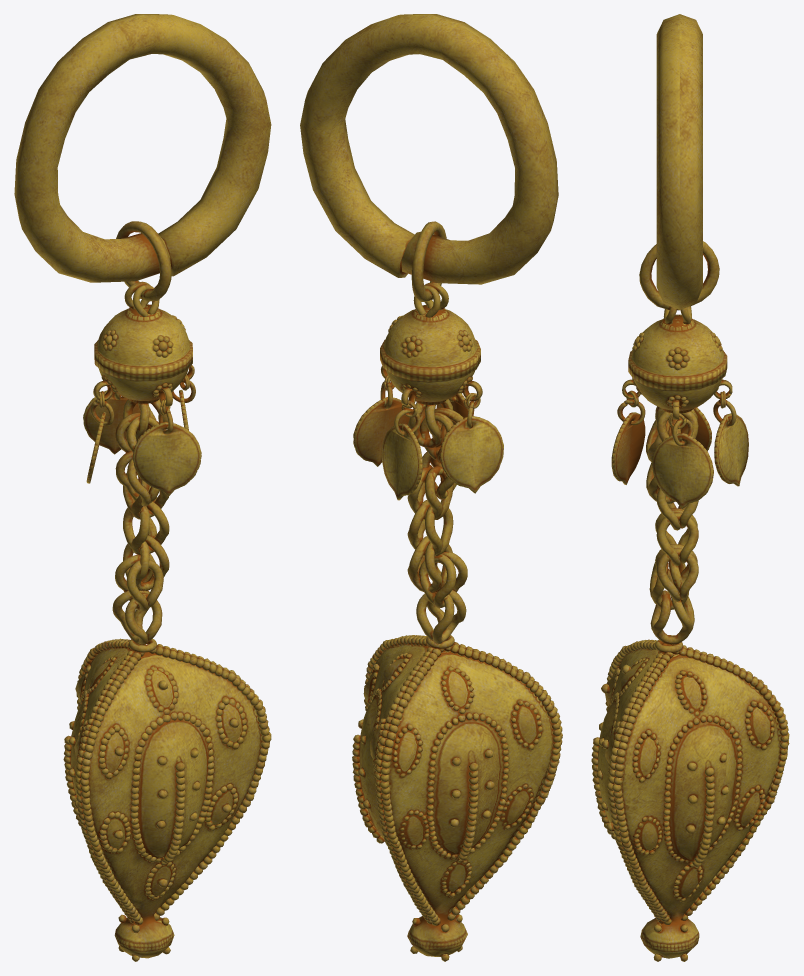
File: gold_earrings.glb
3 renders of one model, left to right at view 1: azimuth 30°, elevation 25°; view 2: azimuth 150°, elevation 25°; view 3: azimuth 270°, elevation 25°, orthographic.
Visible parts, largest first — view 1: Object003_03 - Default_0; view 2: Object003_03 - Default_0; view 3: Object003_03 - Default_0.
Part boxes in pixels (box(x1,y1,x2,y2)): Object003_03 - Default_0: box(14, 14, 271, 961); Object003_03 - Default_0: box(300, 14, 562, 961); Object003_03 - Default_0: box(591, 14, 789, 961).
Size of the model in its own units: 0.0242 by 0.0859 by 0.0166.
1 material, 1 textured.
